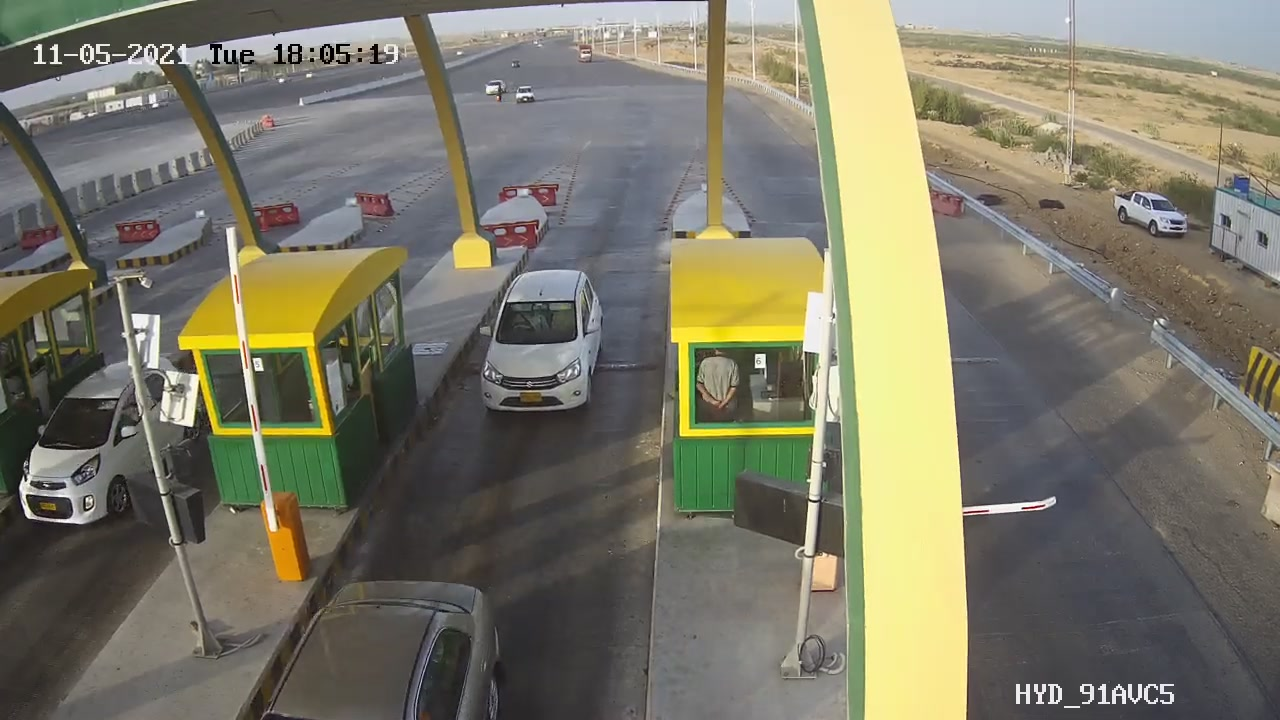F1: (459, 255, 625, 438)
